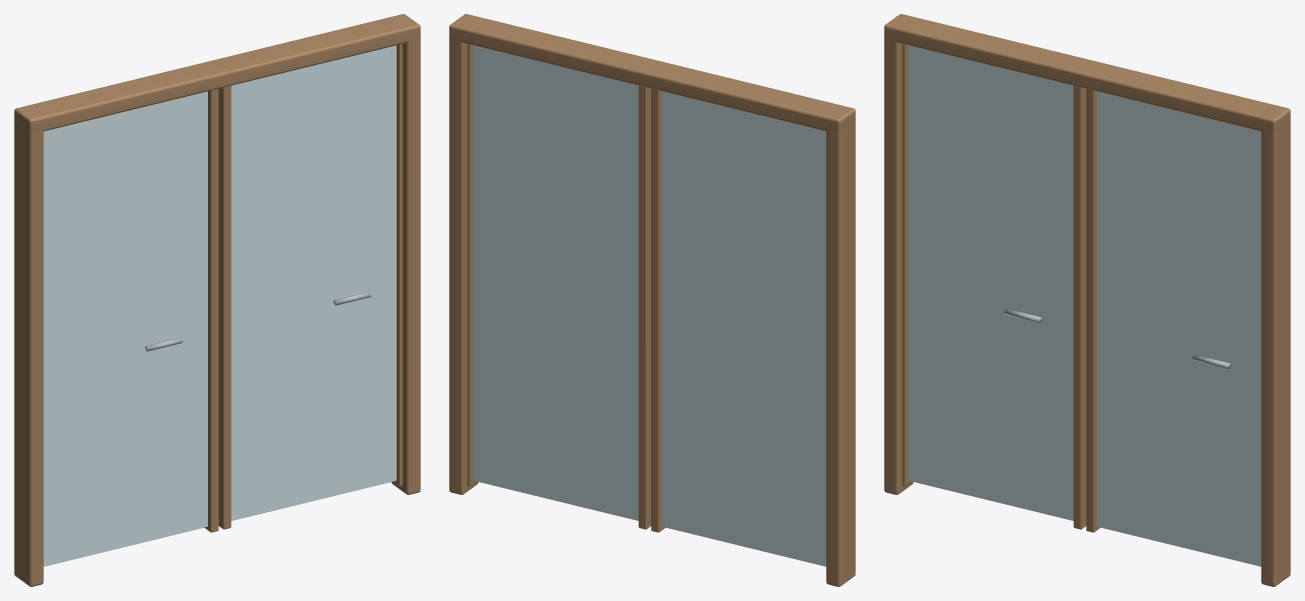
The model's file is atelier-sliding-door.glb.
3 renders of one model, left to right at view 1: azimuth 30°, elevation 25°; view 2: azimuth 150°, elevation 25°; view 3: azimuth 330°, elevation 25°, orthographic.
Visible parts, largest first — view 1: glass.024, legs.245; view 2: glass.024, legs.245; view 3: glass.024, legs.245.
Part boxes in pixels (x1,y1,x2,y2): glass.024: [43, 45, 396, 566]; legs.245: [14, 14, 420, 586]; glass.024: [473, 45, 826, 566]; legs.245: [449, 14, 855, 586]; glass.024: [908, 45, 1261, 566]; legs.245: [884, 14, 1290, 586].
Size of the model in its own units: 1.87 by 2.13 by 0.14.
